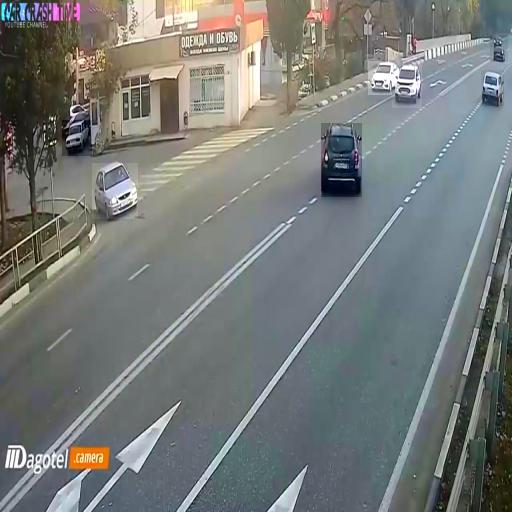小汽车: (321, 124, 362, 198), (92, 163, 138, 219), (392, 58, 422, 108), (62, 120, 92, 156), (368, 61, 397, 95), (481, 70, 504, 106), (490, 35, 508, 62)
